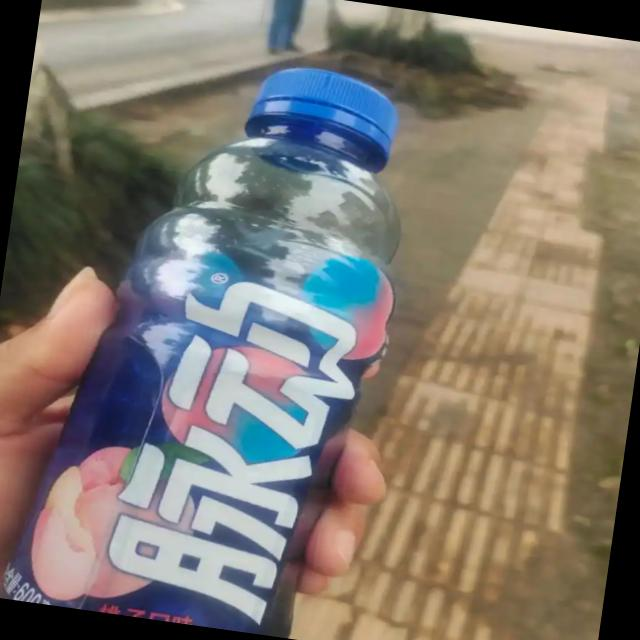bottle: (0, 30, 431, 640)
